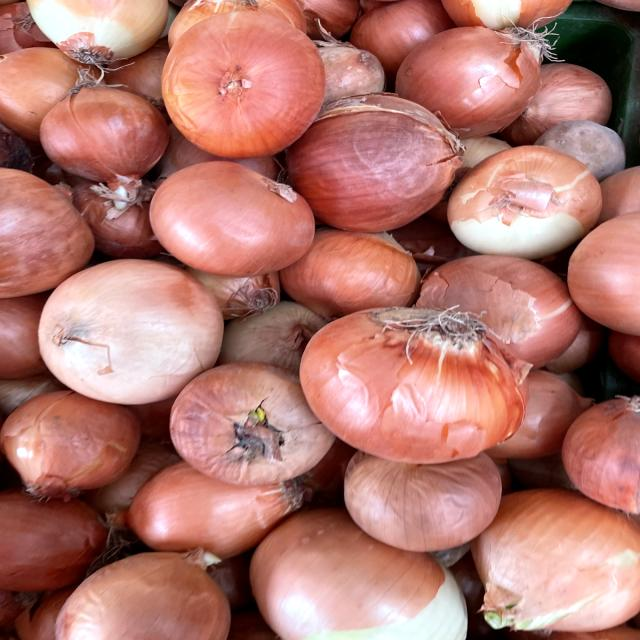onion: (292, 301, 543, 467), (137, 7, 359, 158), (27, 248, 232, 407), (139, 152, 332, 275), (442, 141, 610, 261), (171, 358, 329, 482), (0, 383, 147, 505)
